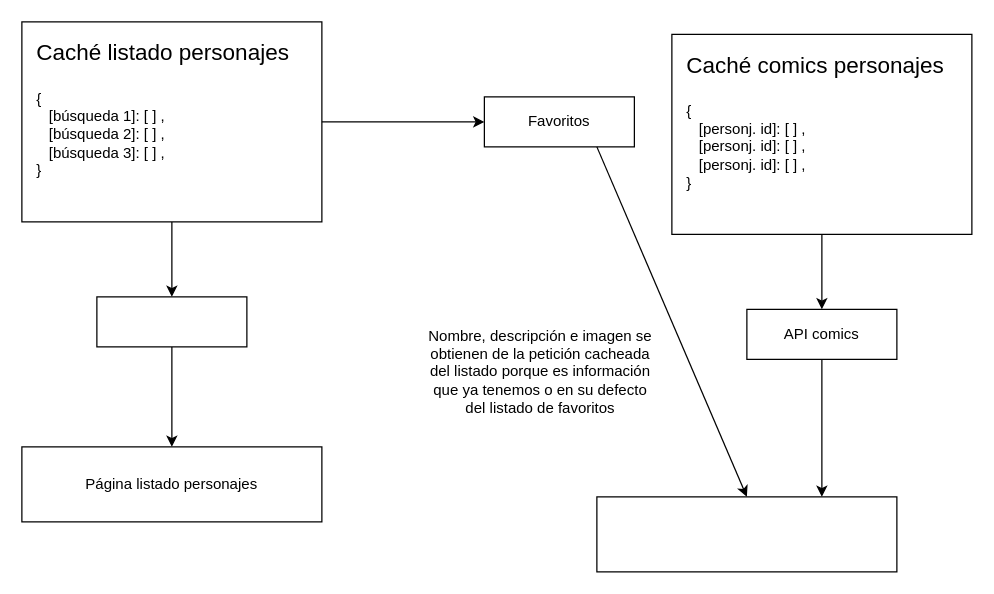
Some shapes in this 994 by 594 pixel diagram are drawn without their labels. Here are the shapes that lost their labels. From the top down, the centre of each, then its label:
the point at 171,321: API personajes
the point at 746,534: Página personaje
